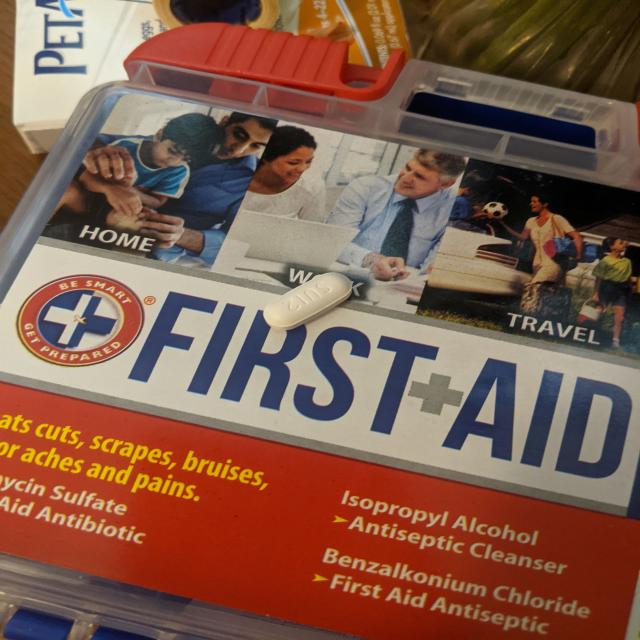non-organic waste: (262, 271, 354, 332)
